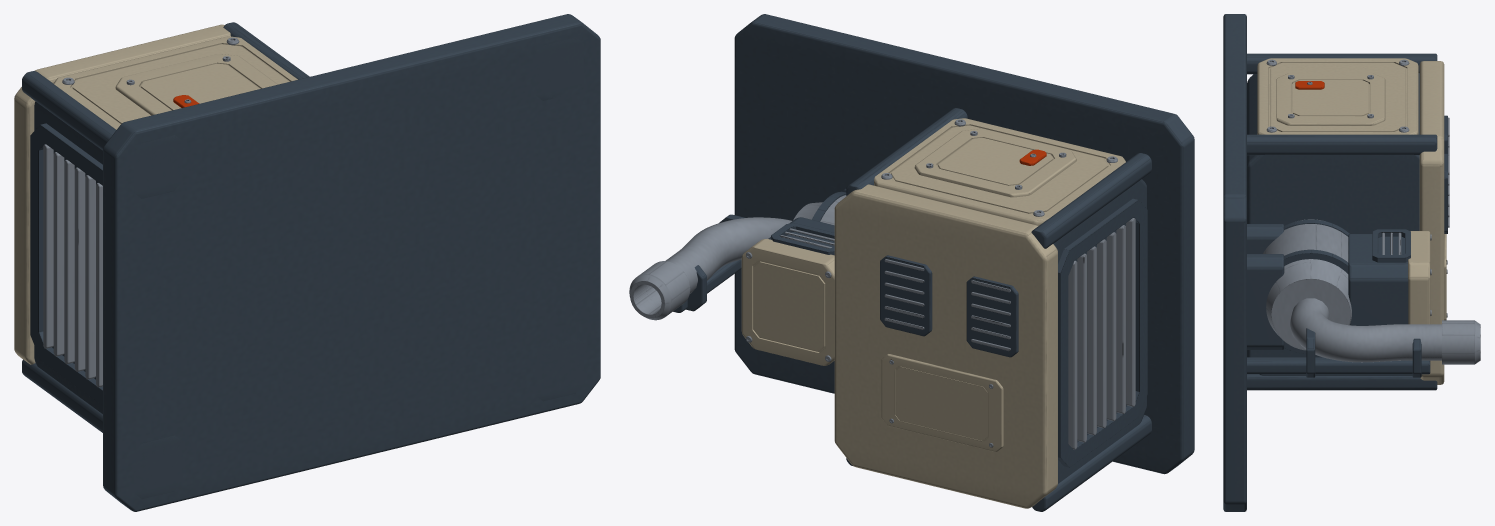
The model's file is BiomassGenerator.fbx.
3 views of the same model, side by side, from view 1: azimuth 30°, elevation 25°; view 2: azimuth 150°, elevation 25°; view 3: azimuth 270°, elevation 25° (orthographic). The views are drawn at different scales.
Visible parts, largest first — view 1: base_frame, generator_roof, generator_side_panel.001, end_grille_frame, fuel_service_hatch.001, shell_load_rib.001, anchor_foot.001, anchor_foot, anchor_foot.002, anchor_foot.003, end_louver.005, end_louver.003 (+7 smaller); view 2: base_frame, generator_roof, upper_aux_cover, roof_service_panel, generator_side_panel.001, end_grille_frame, fuel_service_hatch.001, exhaust_stack, shell_load_rib.001, roof_vent_seat.001, roof_vent_seat, exhaust_tip (+11 smaller); view 3: generator_shell, base_frame, generator_side_panel.001, alternator_housing, generator_roof, exhaust_stack, fuel_service_hatch.001, upper_aux_housing, shell_load_rib.003, shell_load_rib.002, alternator_saddle.001, exhaust_support_post (+10 smaller).
Part boxes in pixels (<box>): base_frame: <box>103,14,600,511</box>; generator_roof: <box>14,24,230,364</box>; generator_side_panel.001: <box>53,36,297,129</box>; end_grille_frame: <box>30,123,102,405</box>; fuel_service_hatch.001: <box>115,54,277,115</box>; shell_load_rib.001: <box>22,71,116,150</box>; anchor_foot.001: <box>134,135,182,198</box>; anchor_foot: <box>134,435,182,498</box>; anchor_foot.002: <box>535,339,583,401</box>; anchor_foot.003: <box>535,37,583,100</box>; end_louver.005: <box>53,152,64,356</box>; end_louver.003: <box>74,167,85,371</box>; base_frame: <box>734,14,1194,474</box>; generator_roof: <box>834,184,1057,508</box>; upper_aux_cover: <box>741,238,834,365</box>; roof_service_panel: <box>881,354,1003,451</box>; generator_side_panel.001: <box>874,118,1125,225</box>; end_grille_frame: <box>1058,198,1147,467</box>; fuel_service_hatch.001: <box>914,128,1076,197</box>; exhaust_stack: <box>645,217,791,305</box>; shell_load_rib.001: <box>1031,153,1151,248</box>; roof_vent_seat.001: <box>880,255,932,336</box>; roof_vent_seat: <box>966,276,1018,357</box>; exhaust_tip: <box>629,261,690,320</box>; generator_shell: <box>1247,73,1419,375</box>; base_frame: <box>1223,14,1246,511</box>; generator_side_panel.001: <box>1257,58,1418,134</box>; alternator_housing: <box>1263,219,1351,350</box>; generator_roof: <box>1419,61,1444,384</box>; exhaust_stack: <box>1290,298,1441,362</box>; fuel_service_hatch.001: <box>1276,73,1385,125</box>; upper_aux_housing: <box>1348,233,1408,325</box>; shell_load_rib.003: <box>1247,134,1437,155</box>; shell_load_rib.002: <box>1247,374,1437,390</box>; alternator_saddle.001: <box>1247,254,1284,349</box>; exhaust_support_post: <box>1247,357,1430,374</box>.
Bounding box in the file's own units: 400 × 300 × 220.
